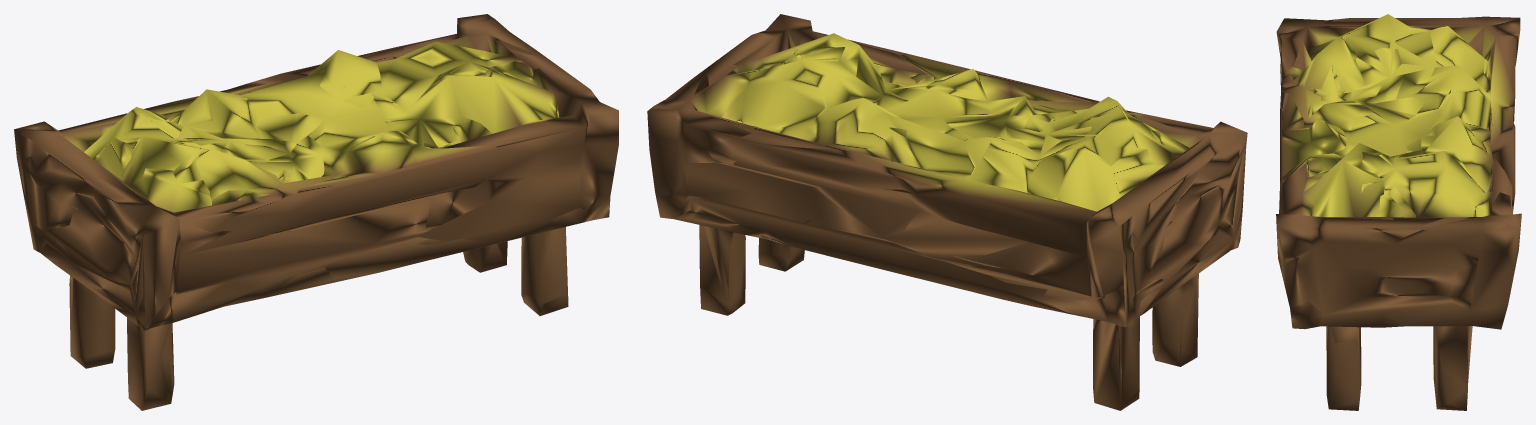
Rendered from gen3d-feeding-trough-lod0.glb.
3 renders of one model, left to right at view 1: azimuth 30°, elevation 25°; view 2: azimuth 150°, elevation 25°; view 3: azimuth 270°, elevation 25°, orthographic. The views are drawn at different scales.
Parts seen in each view (by area): view 1: part_0; view 2: part_0; view 3: part_0.
Part boxes in pixels (bbox=[...]): part_0: bbox=[14, 14, 618, 410]; part_0: bbox=[647, 14, 1247, 410]; part_0: bbox=[1276, 14, 1521, 410].
Bounding box in the file's own units: 2 × 0.9953 × 0.981.
